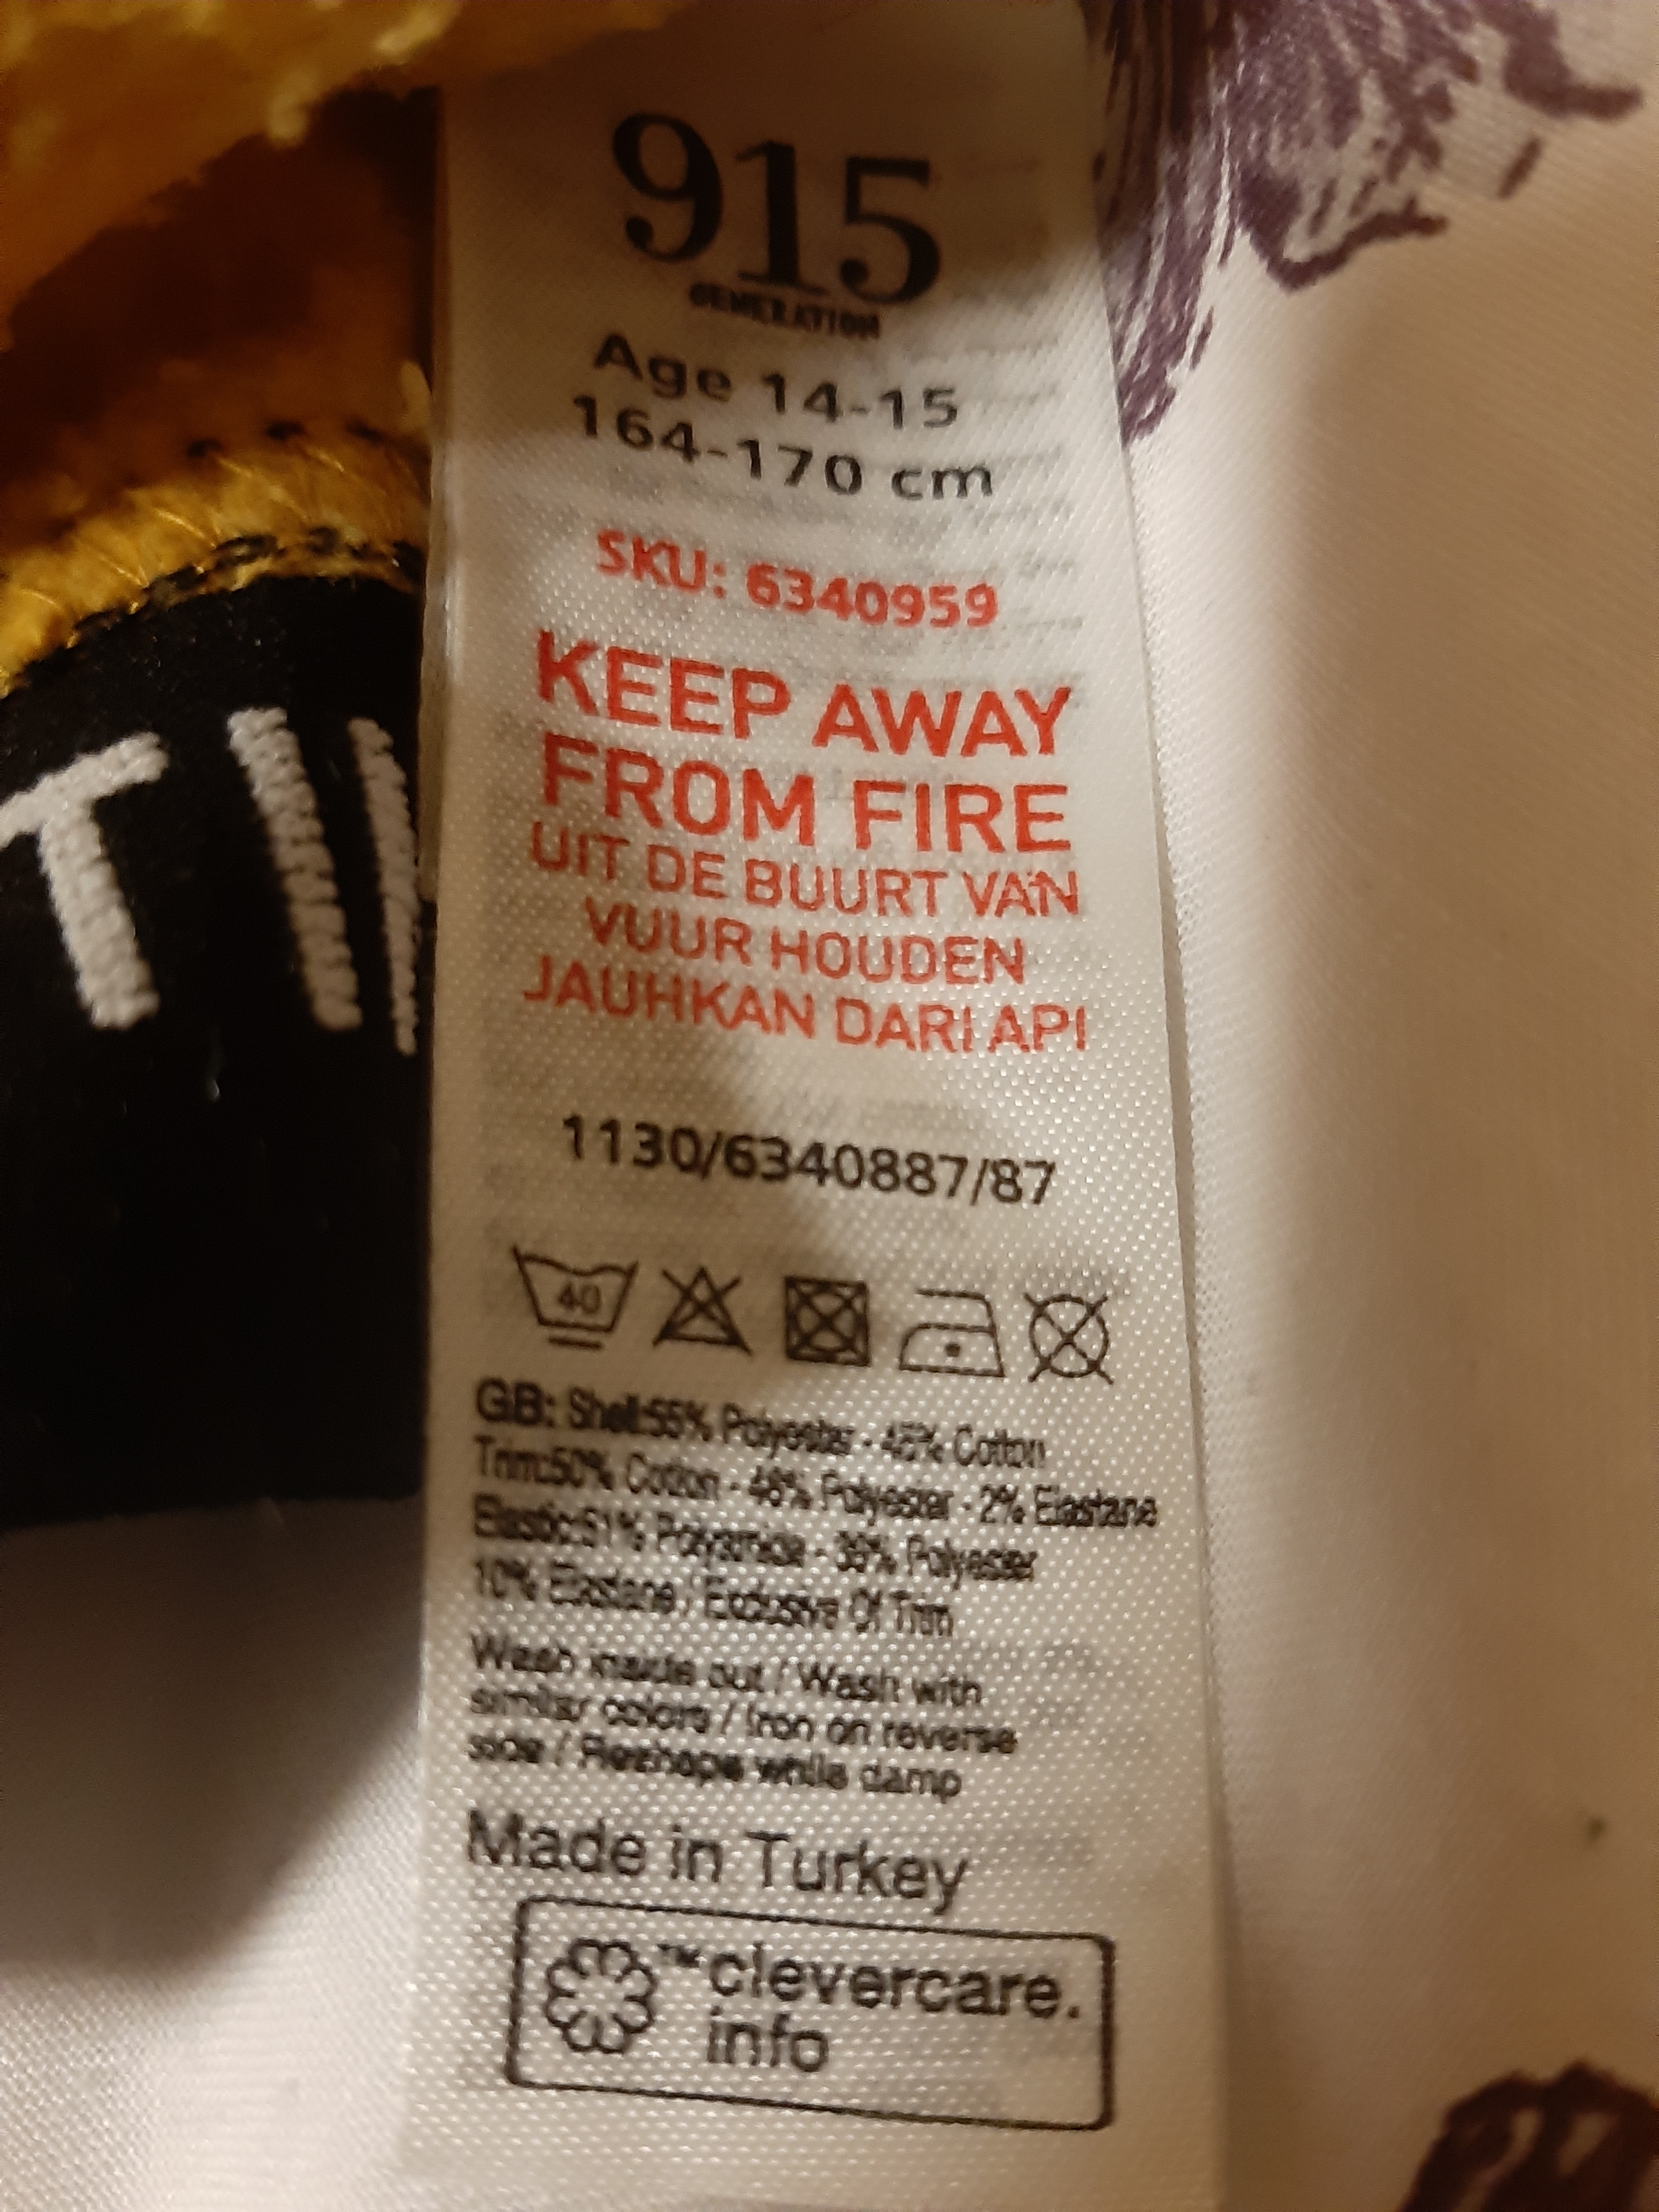do not bleach: (653, 1235, 763, 1379)
do not dry clean: (1028, 1271, 1138, 1393)
do not tumble dry: (762, 1251, 890, 1386)
iron low temp: (889, 1261, 1021, 1402)
wash at or below 40: (495, 1219, 650, 1390)
